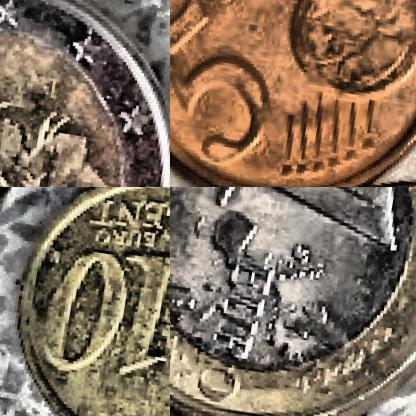coin: (170, 187, 415, 415), (170, 0, 415, 186), (0, 187, 169, 415), (0, 0, 169, 186)
